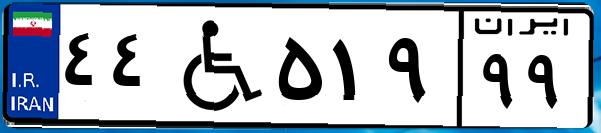1: (330, 28, 385, 110)
4: (57, 26, 110, 100), (110, 28, 158, 98)
5: (270, 28, 330, 110)
9: (385, 28, 445, 110), (475, 38, 525, 113), (525, 38, 570, 115)
ژ (معلولین و جانبازان): (158, 12, 270, 120)
